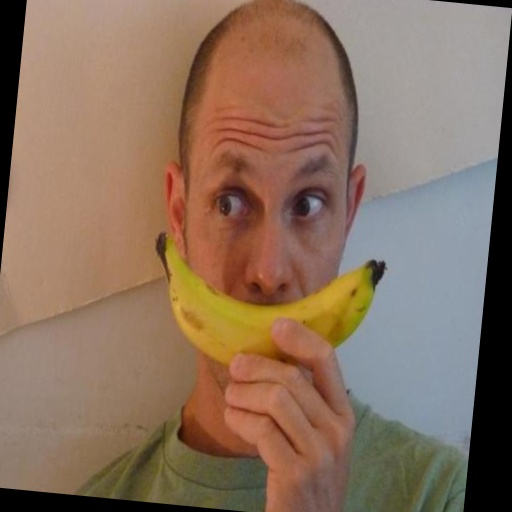fruit: (155, 233, 385, 364)
